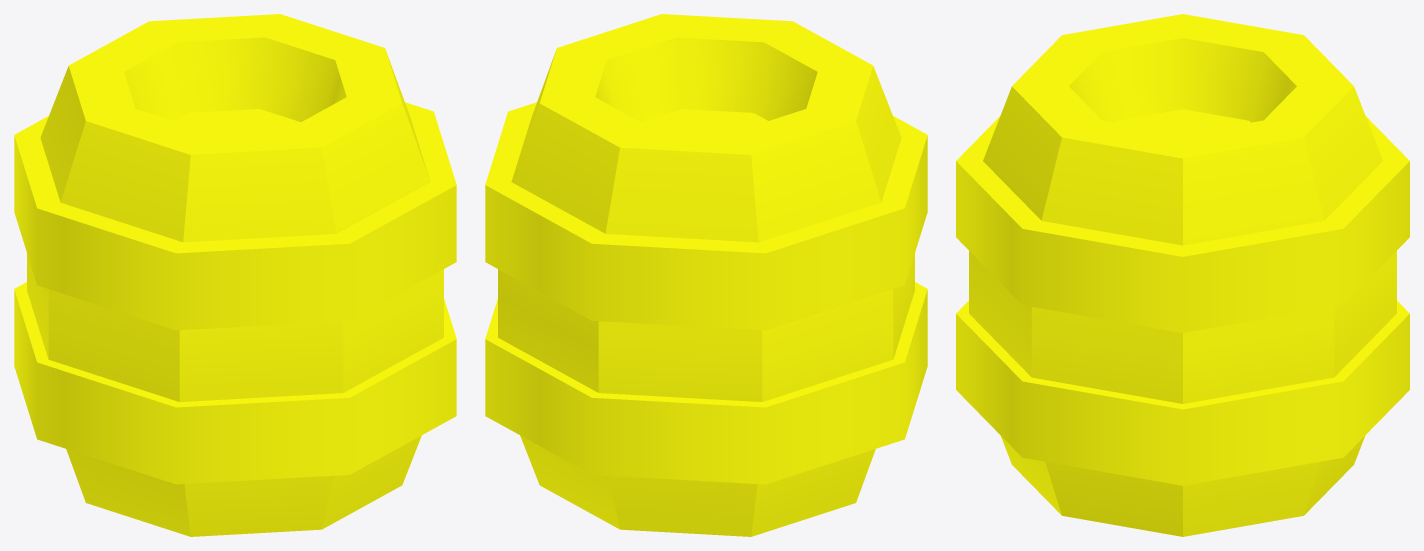
Rendered from _更多模型_mini-dungeon_barrel.glb.
3 renders of one model, left to right at view 1: azimuth 30°, elevation 25°; view 2: azimuth 150°, elevation 25°; view 3: azimuth 270°, elevation 25°, orthographic.
Visible parts, largest first — view 1: barrel; view 2: barrel; view 3: barrel.
Part boxes in pixels (left/top/right/bottom): barrel: left=14, top=14, right=456, bottom=536; barrel: left=485, top=14, right=927, bottom=536; barrel: left=956, top=14, right=1409, bottom=536.
Bounding box in the file's own units: 0.5176 × 0.4762 × 0.5176.
Materials: 1 (1 with a texture image).
